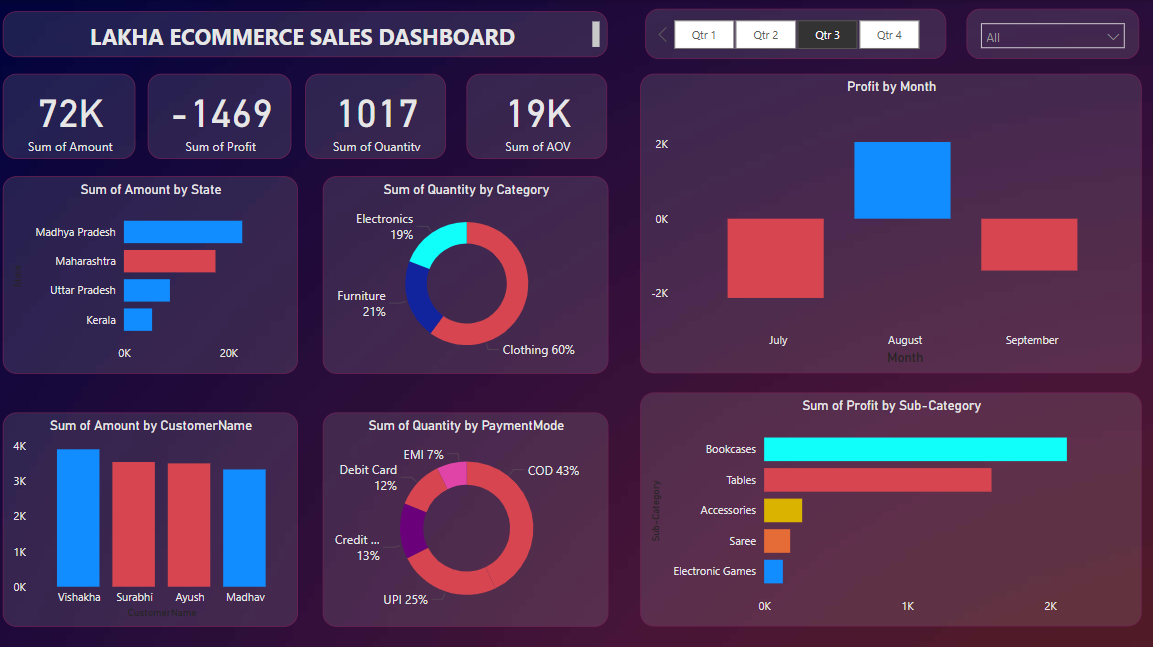

This screenshot's page, from the dashboard's own definition file:
{"tool":"powerbi","page":{"name":"Page 1","canvas":[1280,720],"ordinal":0},"visuals":[{"type":"textbox","box":[39.8,30.2,617.5,61.7],"z":0},{"type":"columnChart","title":"Profit by Month","fields":{"Category":["Orders.Order Date.Variation.Date Hierarchy.Month"],"Y":["Sum(Details.Profit)"]},"box":[677.9,115.3,581.8,289.5],"z":1000},{"type":"barChart","fields":{"Category":["Details.Sub-Category"],"Y":["Sum(Details.Profit)"]},"box":[677.9,435,581.8,259.3],"z":2000},{"type":"donutChart","fields":{"Category":["Details.Category"],"Y":["Sum(Details.Quantity)"]},"box":[347.2,241.5,310.1,220.9],"z":3000},{"type":"donutChart","fields":{"Y":["Sum(Details.Quantity)"],"Category":["Details.PaymentMode"]},"box":[347.2,474.8,310.1,220.9],"z":4000},{"type":"card","fields":{"Values":["Sum(Details.Amount)"]},"box":[39.8,115.3,135.8,101.5],"z":5000},{"type":"card","fields":{"Values":["Sum(Details.Quantity)"]},"box":[366.4,115.3,135.8,101.5],"z":6000},{"type":"card","fields":{"Values":["Sum(Details.Profit)"]},"box":[211.3,115.3,135.8,101.5],"z":7000},{"type":"card","fields":{"Values":["Sum(Details.AOV)"]},"box":[521.4,115.3,135.8,101.5],"z":8000},{"type":"barChart","fields":{"Category":["Orders.State"],"Y":["Sum(Details.Amount)"]},"box":[35.7,241.5,279.9,211.3],"z":9000},{"type":"columnChart","fields":{"Category":["Orders.CustomerName"],"Y":["Sum(Details.Amount)"]},"box":[35.7,474.8,279.9,220.9],"z":10000},{"type":"slicer","fields":{"Values":["Orders.Order Date.Variation.Date Hierarchy.Quarter"]},"box":[704.3,31.6,325.2,60.4],"z":11000},{"type":"slicer","fields":{"Values":["Orders.State"]},"box":[1063.8,31.6,161.9,60.4],"z":12000}]}

Visuals, with their boxes in screenshot pixels (x1, y1, x2, y2), scaled from the page's 1280x720 canvas onto the 1153x647 screenshot:
textbox: [36, 27, 592, 83]
"Profit by Month" columnChart: [611, 104, 1135, 364]
barChart - Details.Sub-Category x Sum(Details.Profit): [611, 391, 1135, 624]
donutChart - Details.Category x Sum(Details.Quantity): [313, 217, 592, 416]
donutChart - Sum(Details.Quantity) x Details.PaymentMode: [313, 427, 592, 625]
card - Sum(Details.Amount): [36, 104, 158, 195]
card - Sum(Details.Quantity): [330, 104, 452, 195]
card - Sum(Details.Profit): [190, 104, 313, 195]
card - Sum(Details.AOV): [470, 104, 592, 195]
barChart - Orders.State x Sum(Details.Amount): [32, 217, 284, 407]
columnChart - Orders.CustomerName x Sum(Details.Amount): [32, 427, 284, 625]
slicer - Orders.Order Date.Variation.Date Hierarchy.Quarter: [634, 28, 927, 83]
slicer - Orders.State: [958, 28, 1104, 83]
